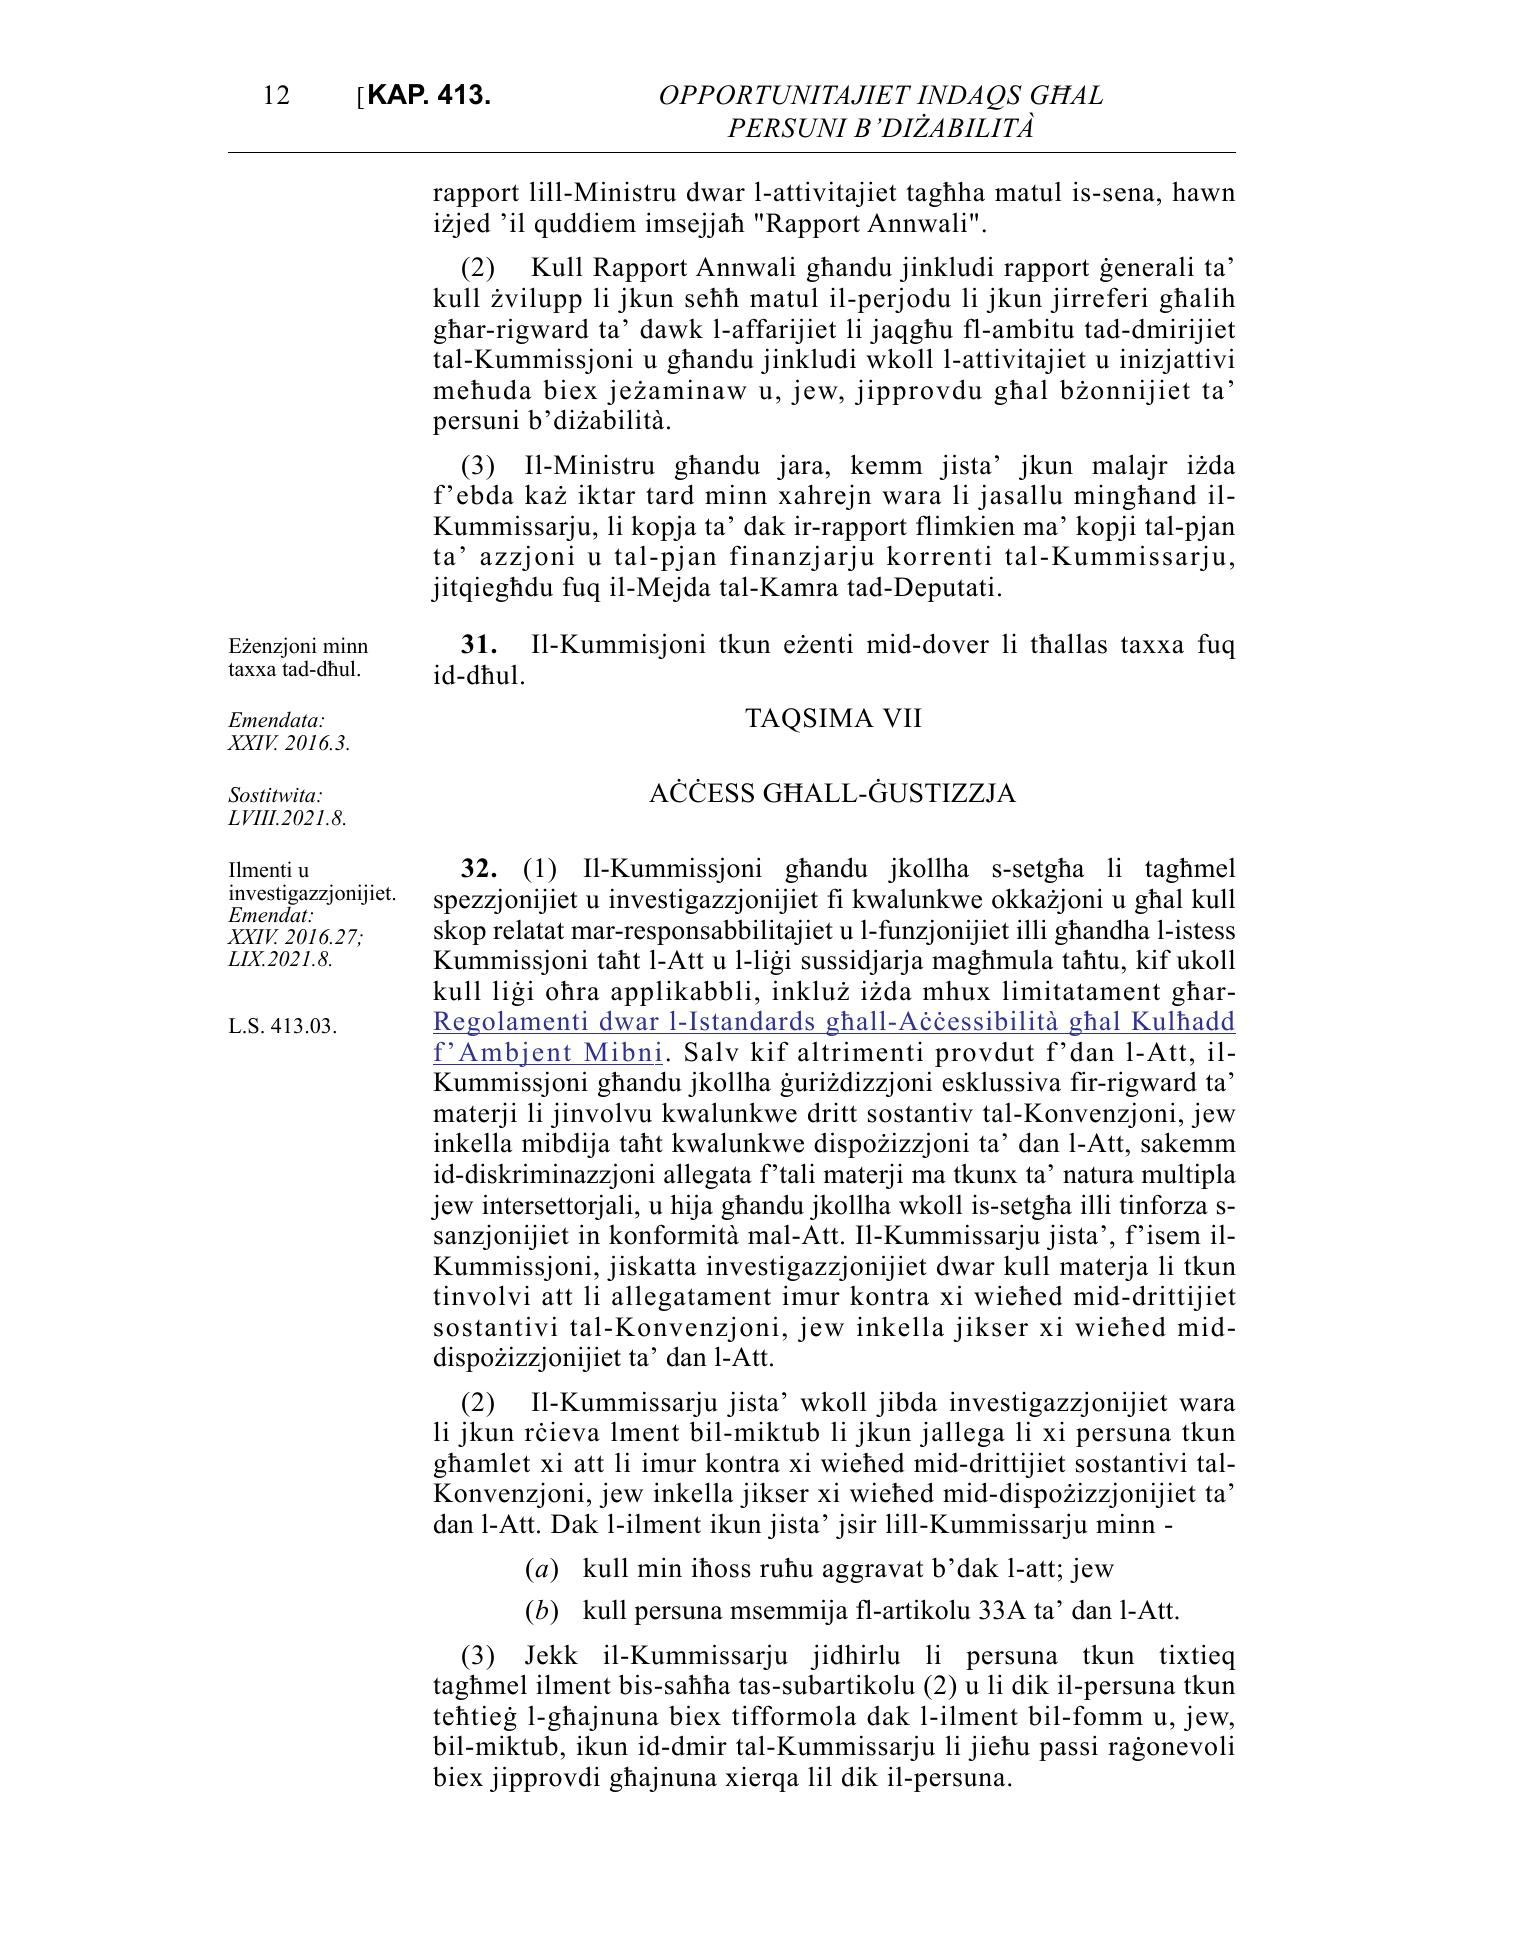text: (420, 170, 1246, 1803)
